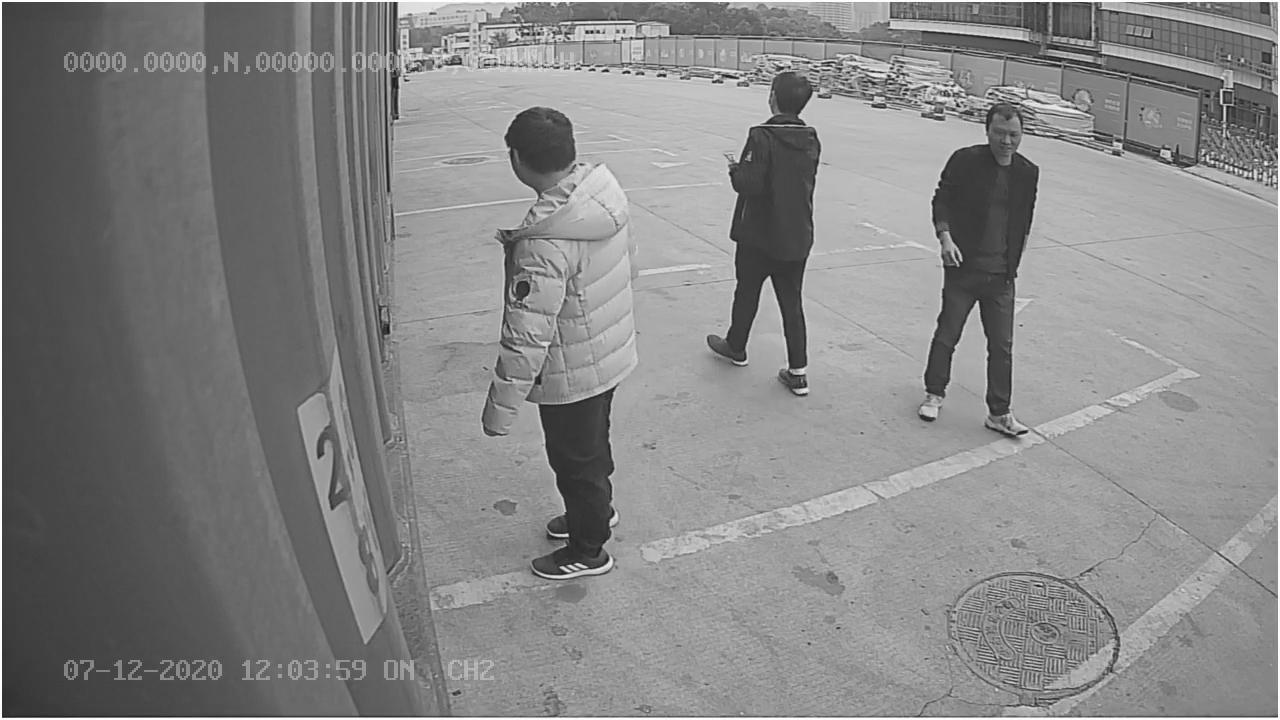person: (474, 103, 641, 587), (913, 95, 1049, 441), (703, 69, 839, 393)
